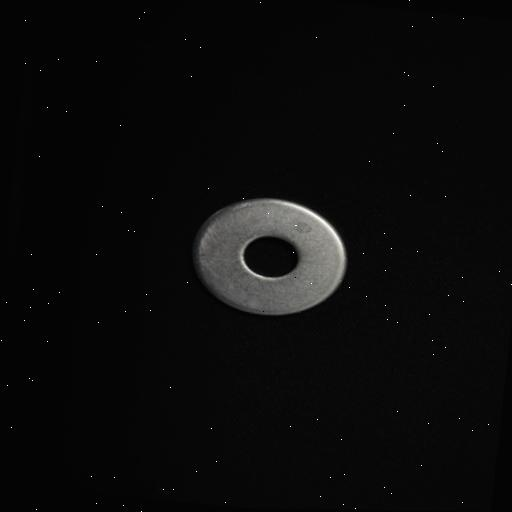Product: (192, 198, 347, 315)
Scratch: (188, 220, 229, 282), (234, 233, 261, 271)
